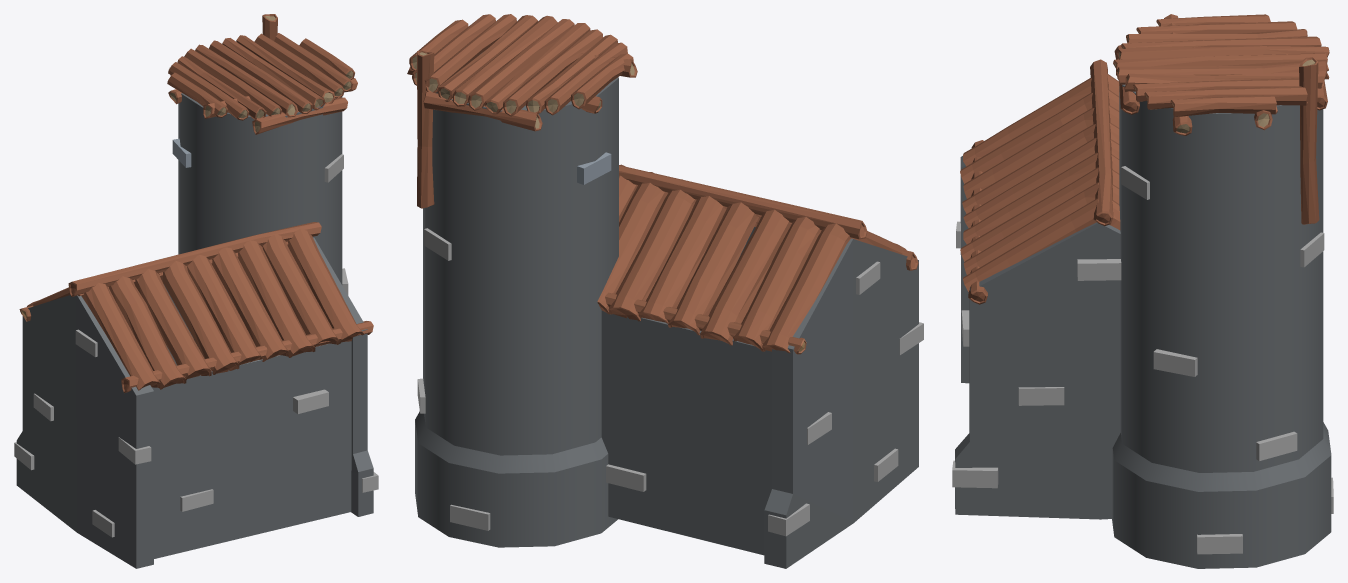
The model's file is LightStoneBuildingLargeSilo1.fbx.
3 renders of one model, left to right at view 1: azimuth 30°, elevation 25°; view 2: azimuth 150°, elevation 25°; view 3: azimuth 270°, elevation 25°, orthographic. The views are drawn at different scales.
Parts seen in each view (by area): view 1: LightStoneBuildingLargeSilo1; view 2: LightStoneBuildingLargeSilo1; view 3: LightStoneBuildingLargeSilo1.
Part boxes in pixels (x1,y1,x2,y2): LightStoneBuildingLargeSilo1: (14, 14, 378, 568); LightStoneBuildingLargeSilo1: (407, 14, 923, 568); LightStoneBuildingLargeSilo1: (952, 14, 1333, 568).
Bounding box in the file's own units: 1194 × 1405 × 993.
